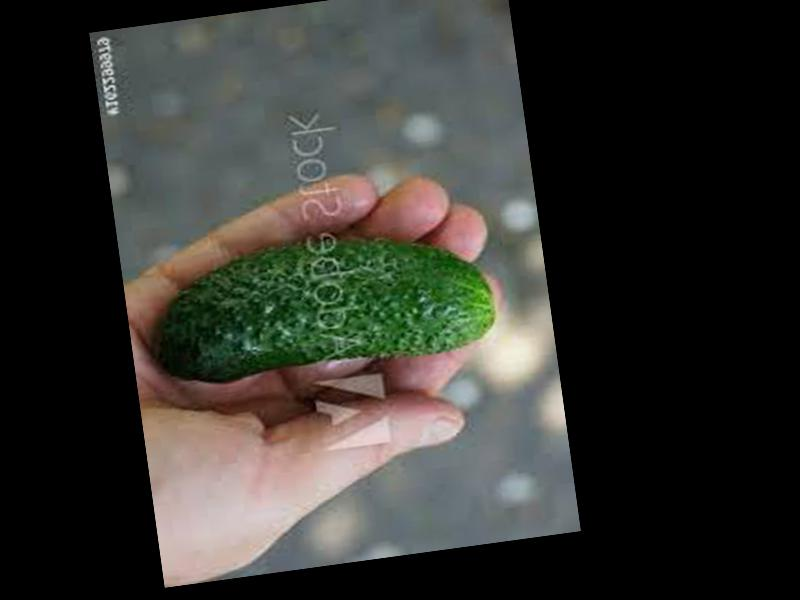Cucumber: (145, 215, 497, 390)
